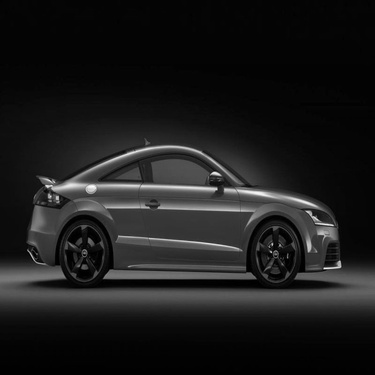car: (10, 129, 349, 287)
